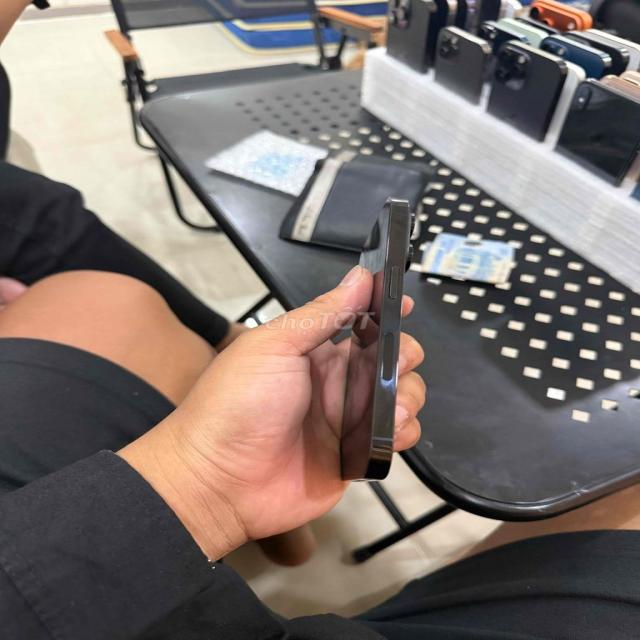gen_14: (334, 195, 411, 492)
